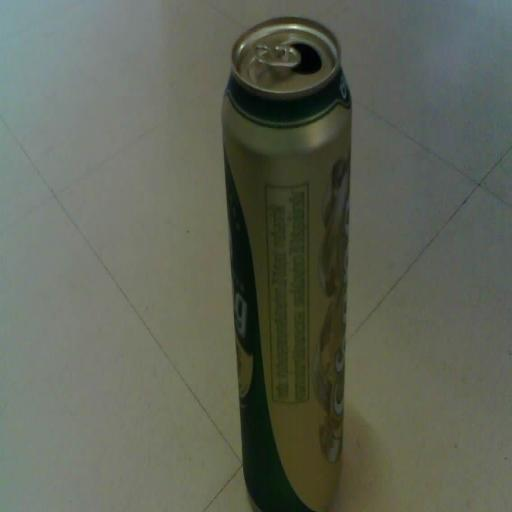canned: (213, 14, 360, 512)
